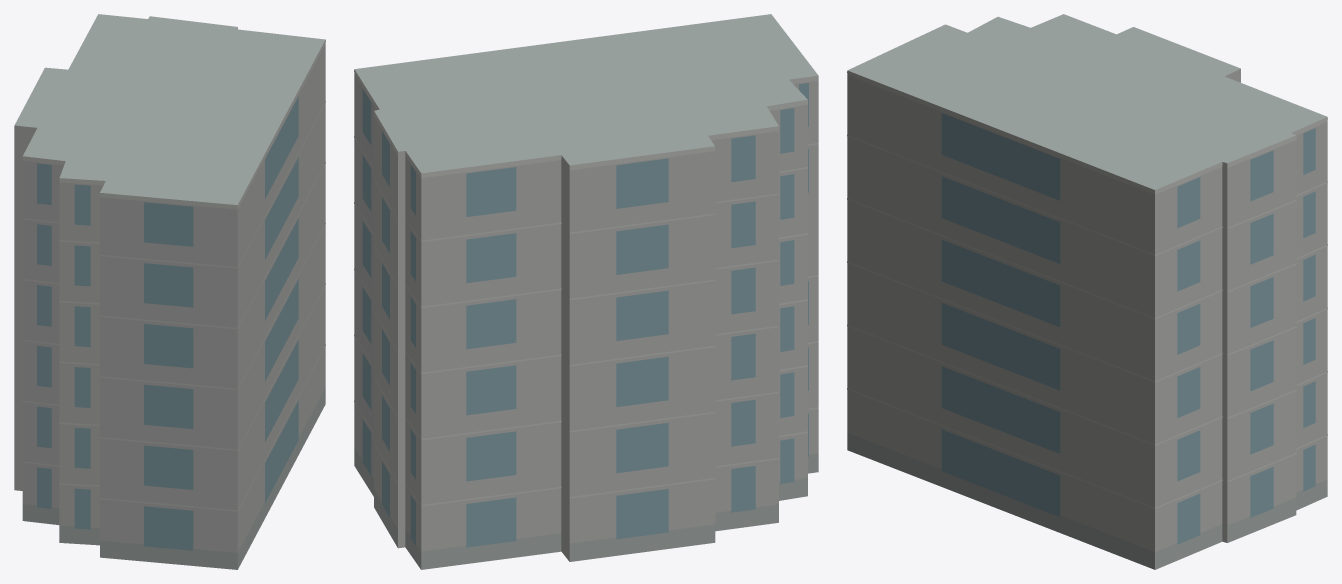
File: survey-upis-32781875.glb
3 renders of one model, left to right at view 1: azimuth 30°, elevation 25°; view 2: azimuth 150°, elevation 25°; view 3: azimuth 270°, elevation 25°, orthographic. The views are drawn at different scales.
Parts seen in each view (by area): view 1: survey-upis-32781875.tmp; view 2: survey-upis-32781875.tmp; view 3: survey-upis-32781875.tmp.
Boxes of the visible parts, x1,y1,x2,y2 form: survey-upis-32781875.tmp: (14, 14, 325, 569); survey-upis-32781875.tmp: (354, 14, 818, 569); survey-upis-32781875.tmp: (847, 14, 1327, 569).
Size of the model in its own units: 19.32 by 19.4 by 22.26.
